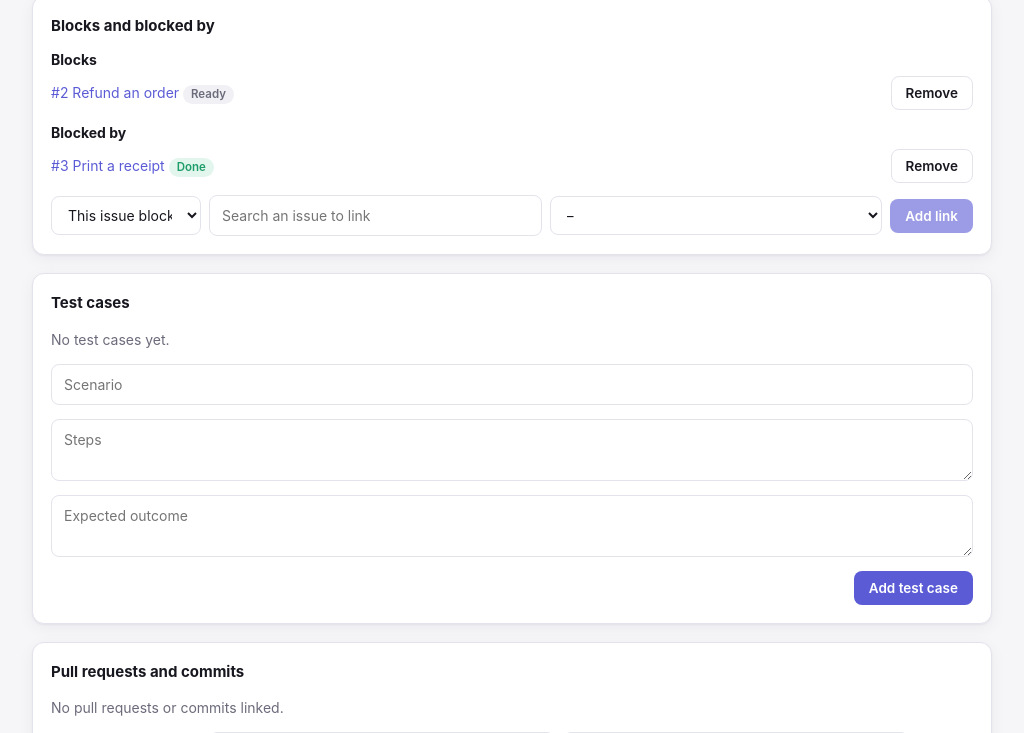
test cases › keeps what was typed when adding is refused
The image size is (1024, 733).
(page scrolled)
Type "Pays" into the field labelled "Scenario" at coordinates (512, 384), box [51,364,973,404]
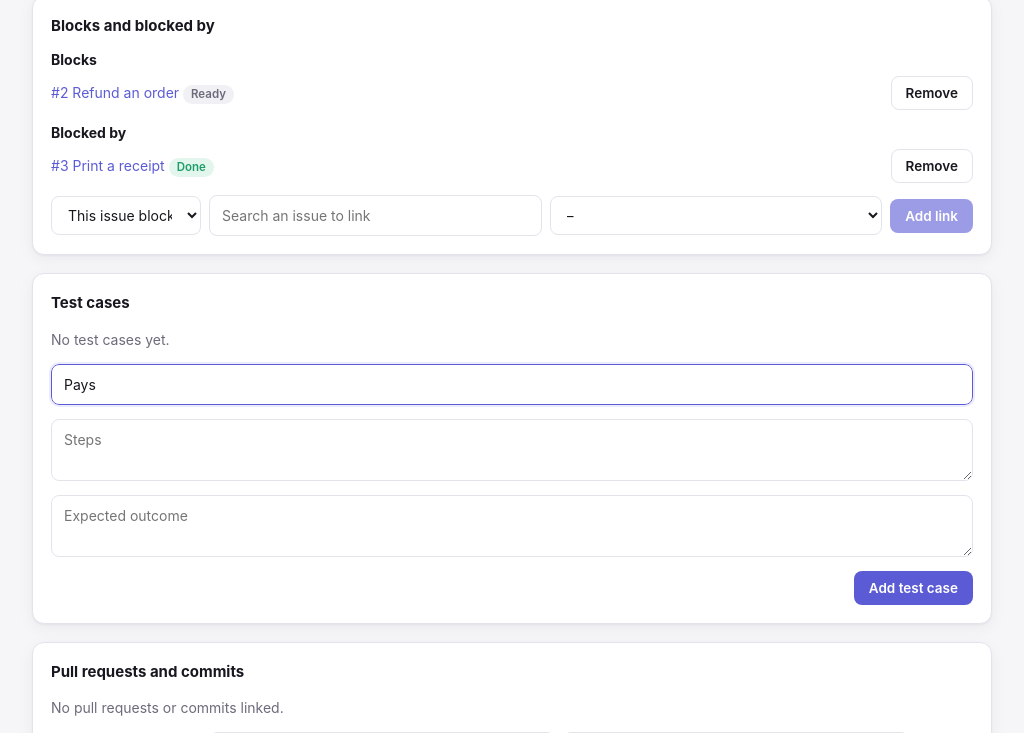
Click the button "Add test case" at coordinates (913, 588), box [854,570,973,604]
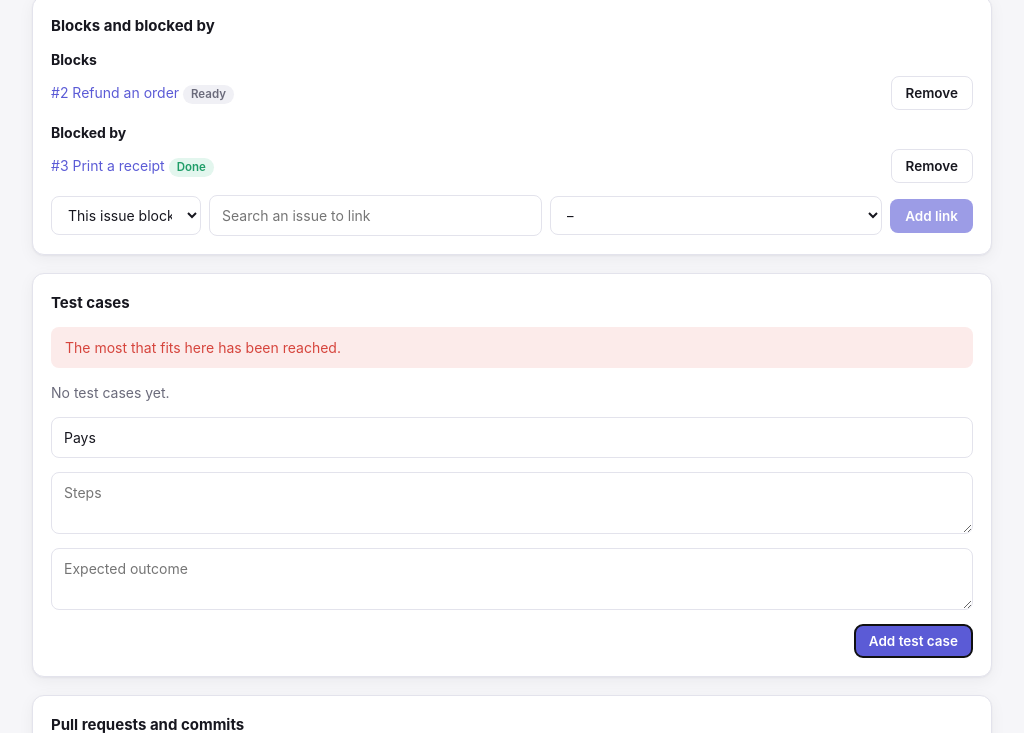
expect the text "The most that fits here has been reached." is shown: met, box [51,326,973,368]
